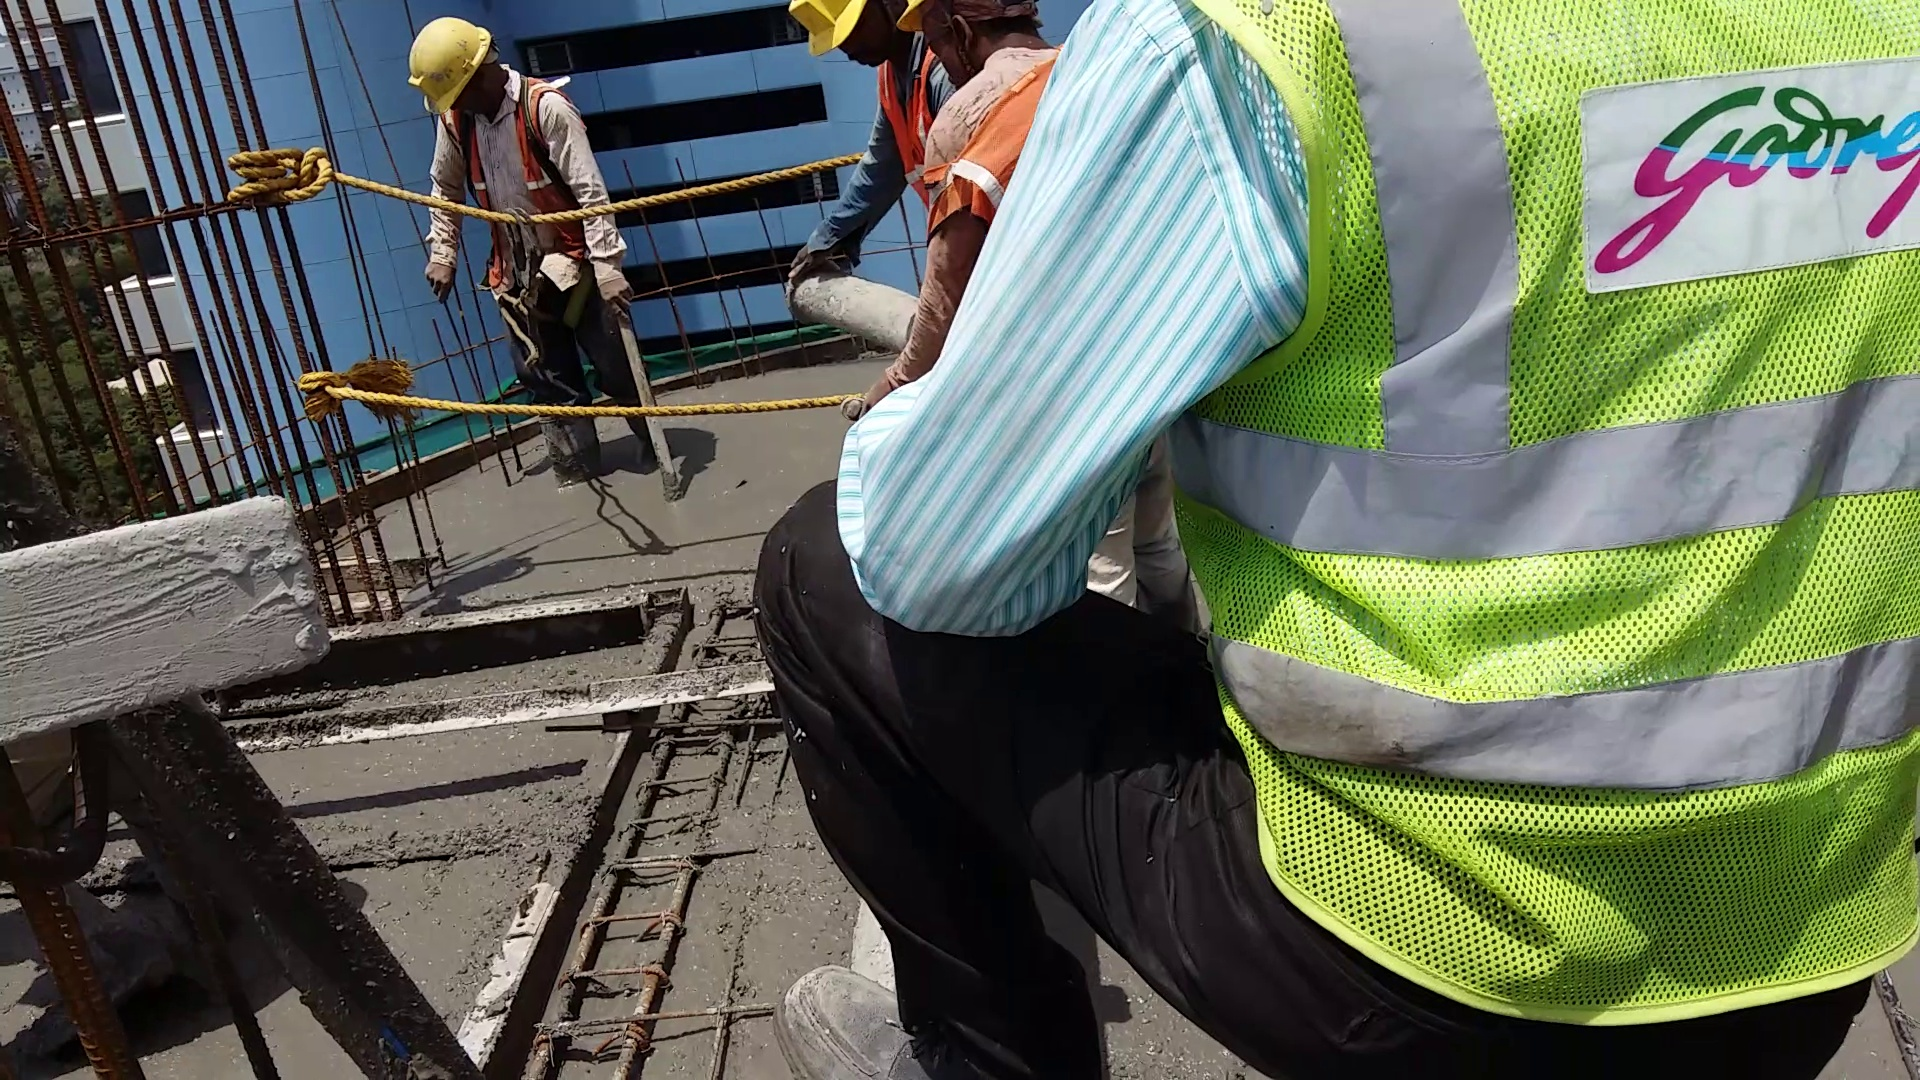SAFE: (407, 12, 567, 262), (802, 1, 960, 167)
